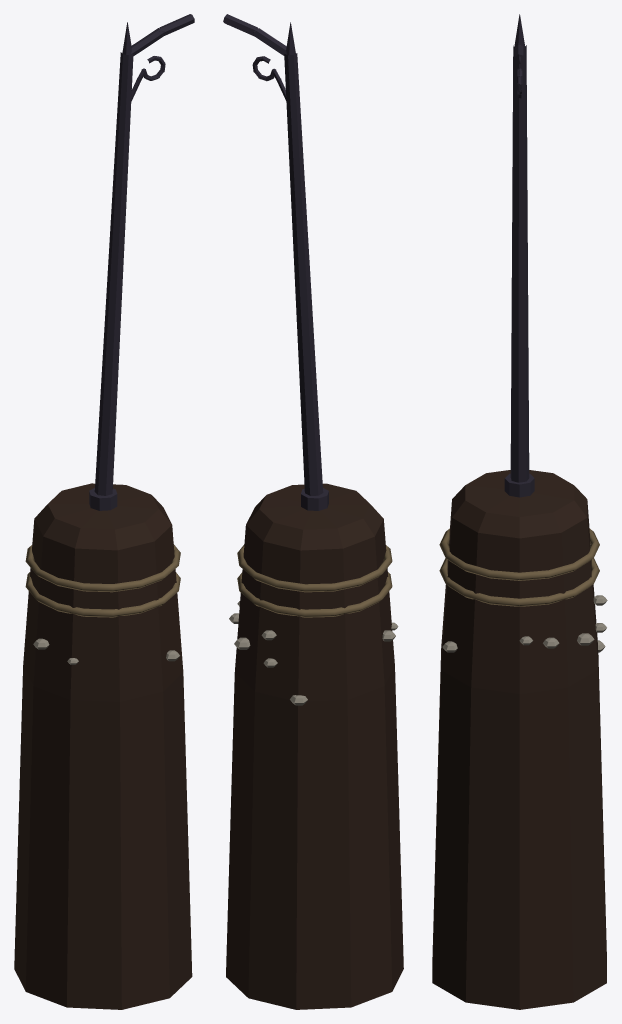
File: lamp-post.glb
3 renders of one model, left to right at view 1: azimuth 30°, elevation 25°; view 2: azimuth 150°, elevation 25°; view 3: azimuth 270°, elevation 25°, orthographic. The views are drawn at different scales.
Parts seen in each view (by area): view 1: lamp-post.001; view 2: lamp-post.001; view 3: lamp-post.001.
Part boxes in pixels (x1,y1,x2,y2): lamp-post.001: (14,14,194,1009); lamp-post.001: (223,14,403,1009); lamp-post.001: (432,14,607,1009).
Size of the model in its own units: 1.74 by 9.32 by 1.53.
